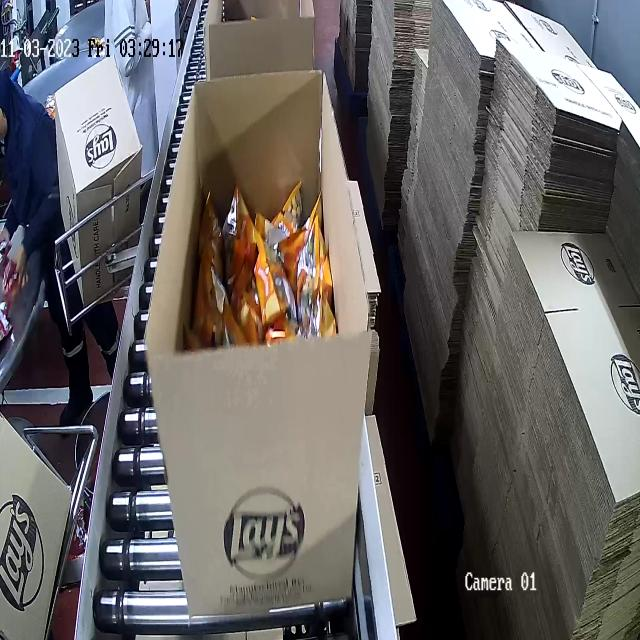FRENCH_CHEESE: (185, 177, 337, 349)
